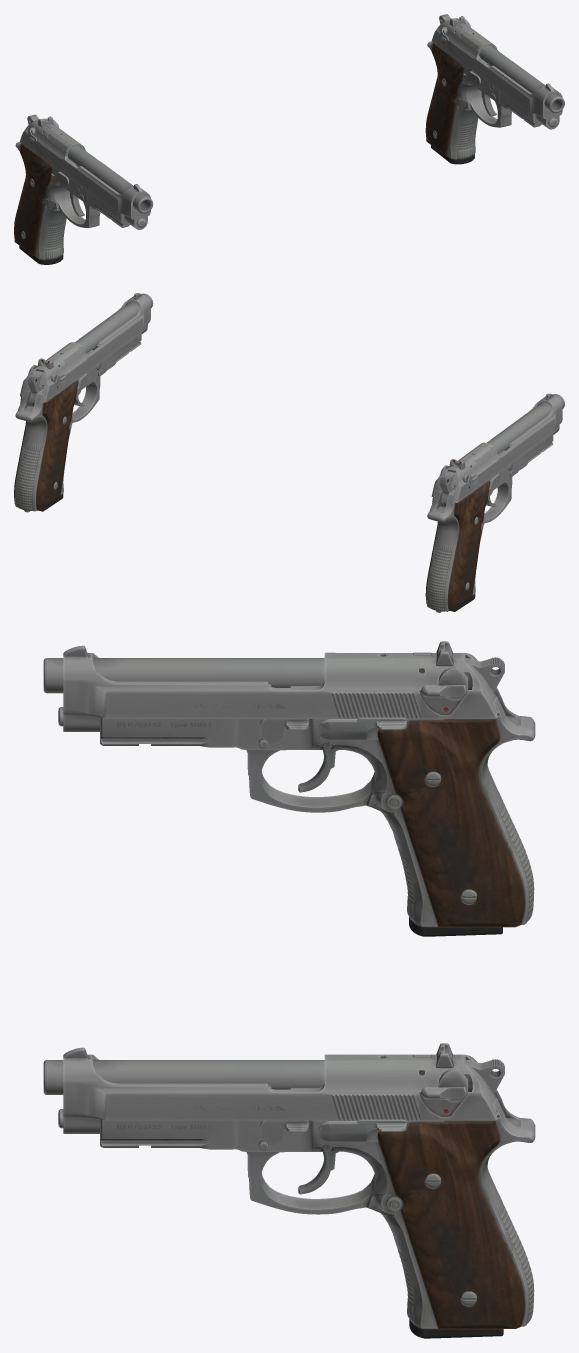
The model's file is elite.glb.
3 views of the same model, one above another, from view 1: azimuth 30°, elevation 25°; view 2: azimuth 150°, elevation 25°; view 3: azimuth 270°, elevation 25° (orthographic). The views are drawn at different scales.
Parts seen in each view (by area): view 1: DualElite_CS2_weapon_pist_elite.001_0; view 2: DualElite_CS2_weapon_pist_elite.001_0; view 3: DualElite_CS2_weapon_pist_elite.001_0.
Part boxes in pixels (box(x1,y1,x2,y2)): DualElite_CS2_weapon_pist_elite.001_0: box(14, 14, 564, 264); DualElite_CS2_weapon_pist_elite.001_0: box(14, 293, 564, 612); DualElite_CS2_weapon_pist_elite.001_0: box(43, 641, 535, 1338).
Size of the model in its own units: 0.5505 by 0.1648 by 0.2628.
1 material, 1 textured.
